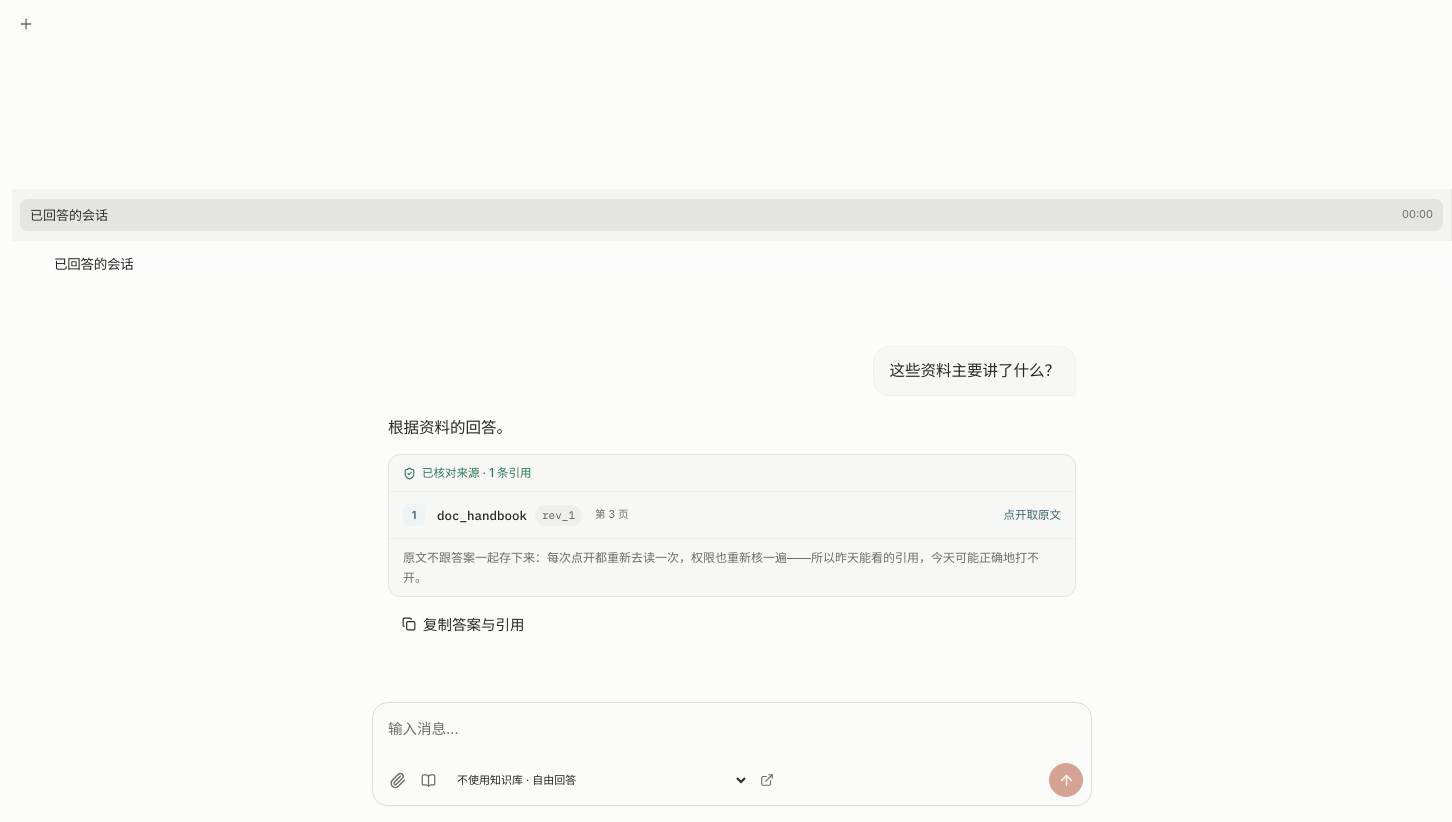
Test: Taking an answer somewhere else › puts the answer and every id in full onto the clipboard
The width and height of the screenshot is (1452, 822).
What coordinates should you click on to do the following:
click the button "复制答案与引用"
I would click on:
 (463, 624)
Its box is [388, 605, 538, 644].
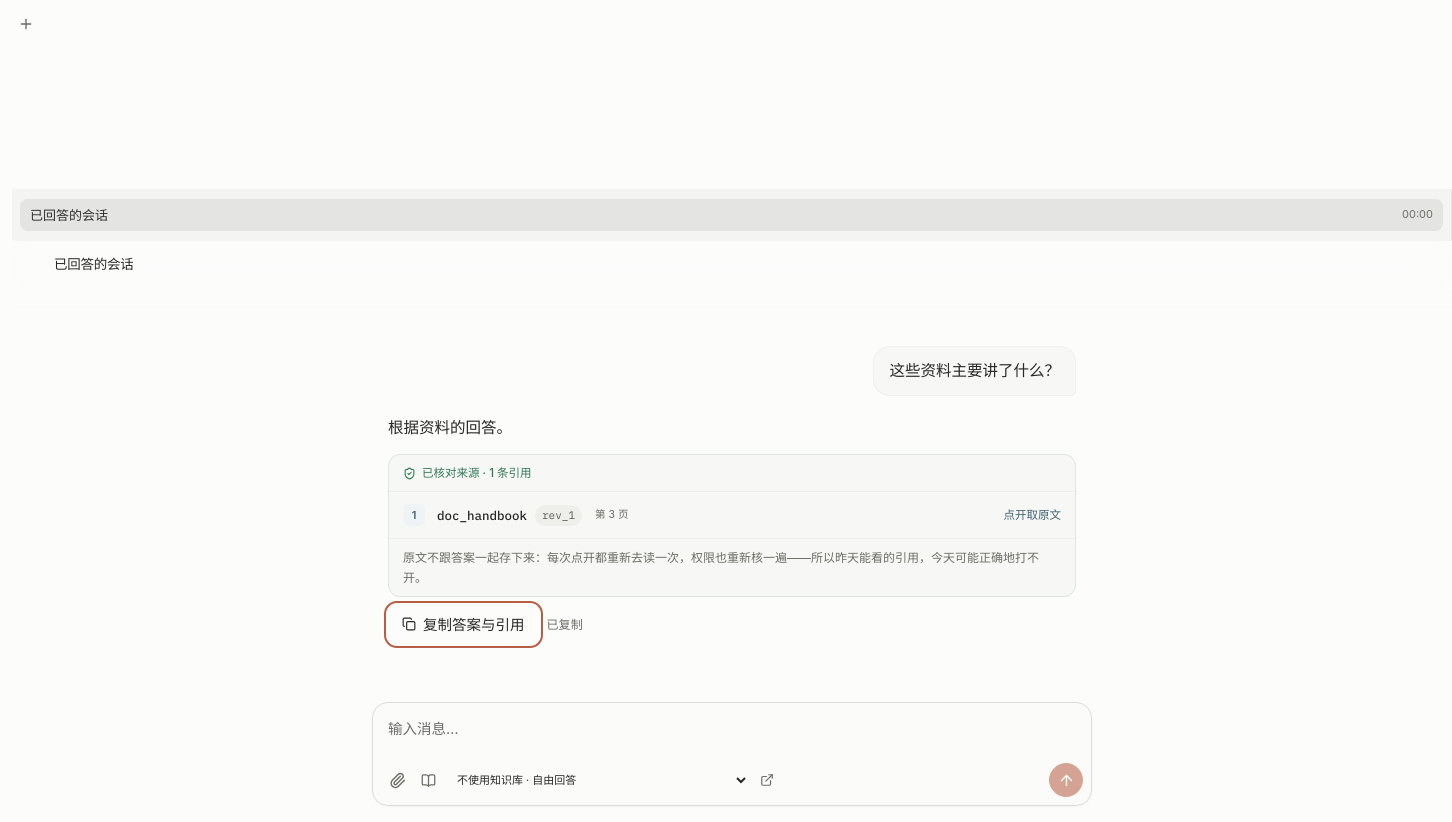
Result: the text "已复制" is shown at [546, 615, 583, 634]
